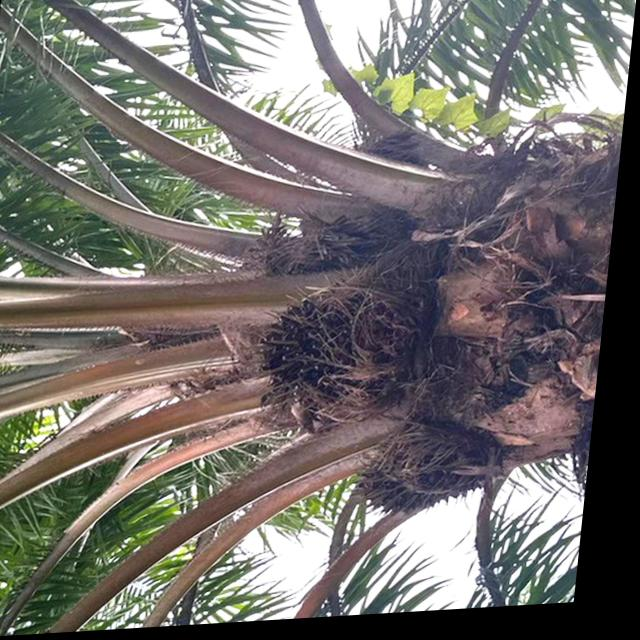ripe: (236, 278, 423, 438)
